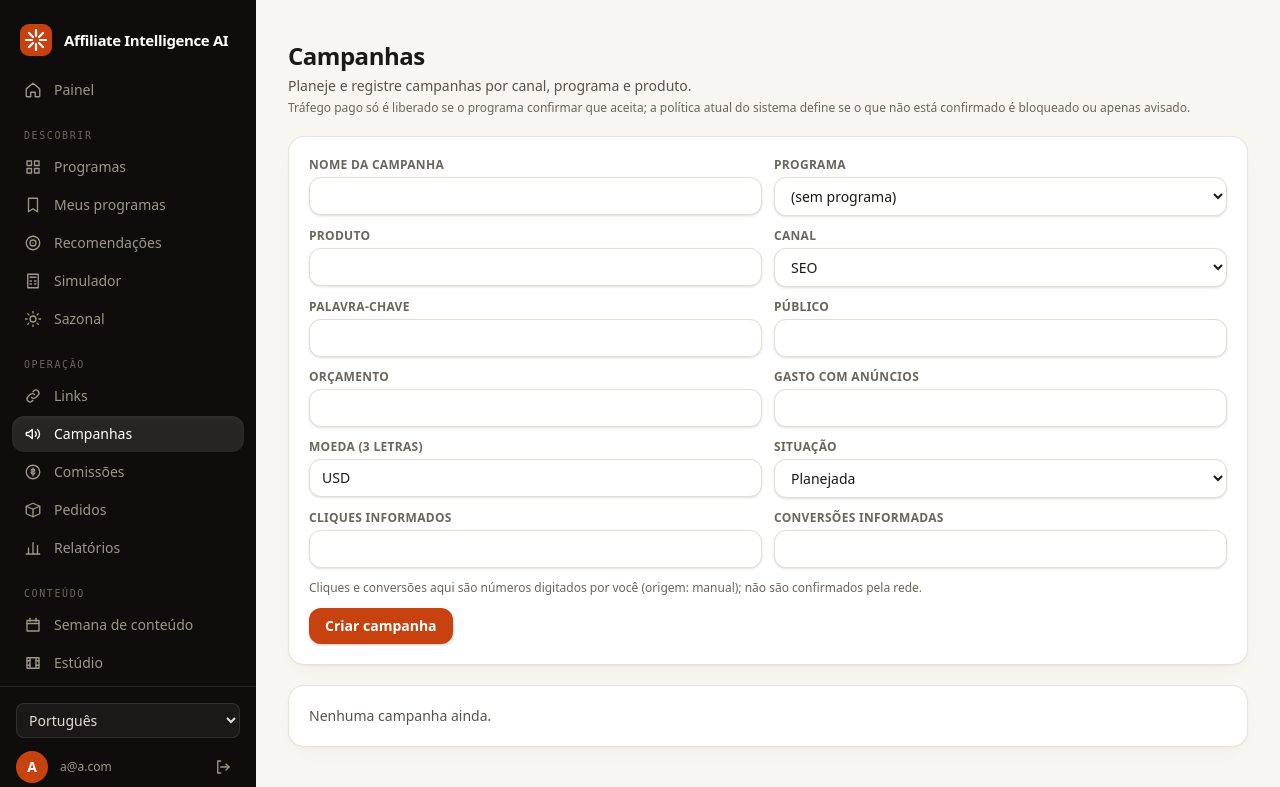
Test: gestão do afiliado › Campanhas: tráfego pago bloqueado mostra o motivo
Type "Camp" into the field labelled "Nome da campanha" at (536,196), box [309,177,762,215]
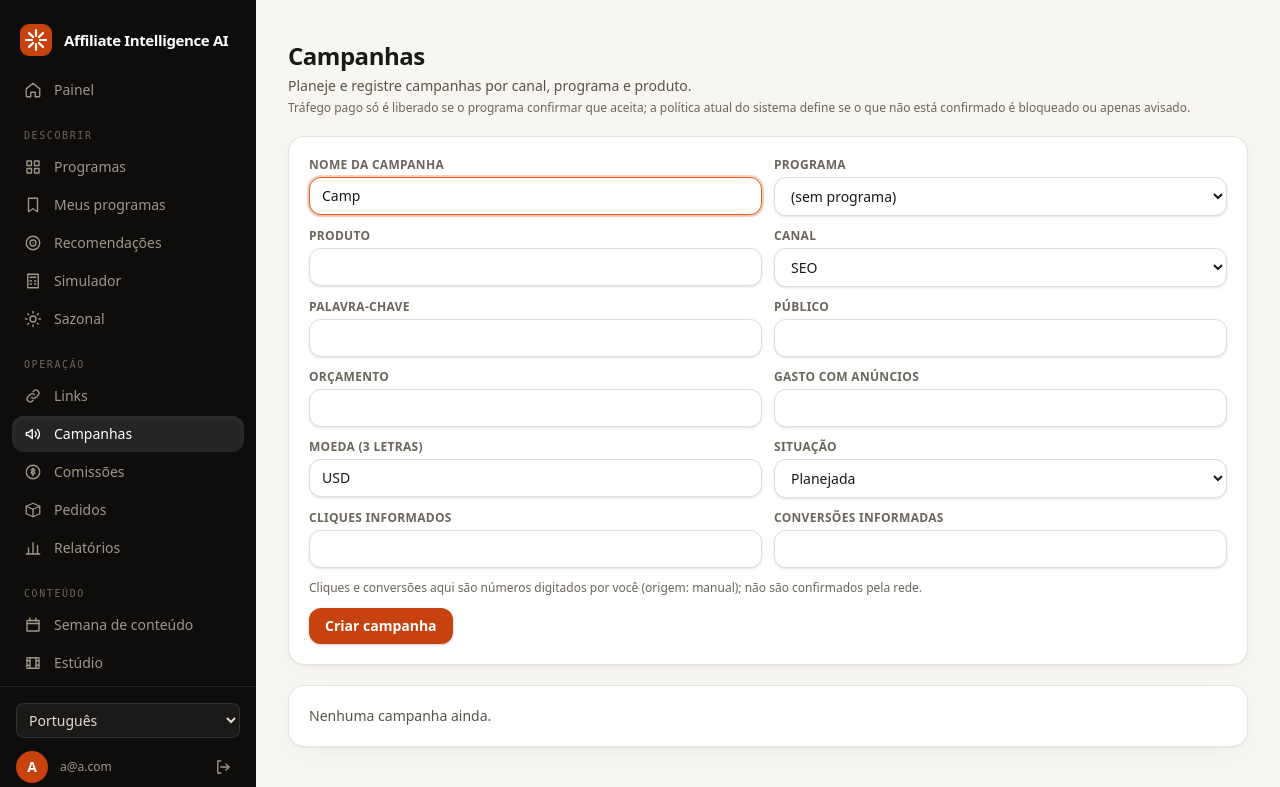
Select "Google Ads" in the dropdown labelled "Canal" at (1000,268), box [774,248,1227,287]
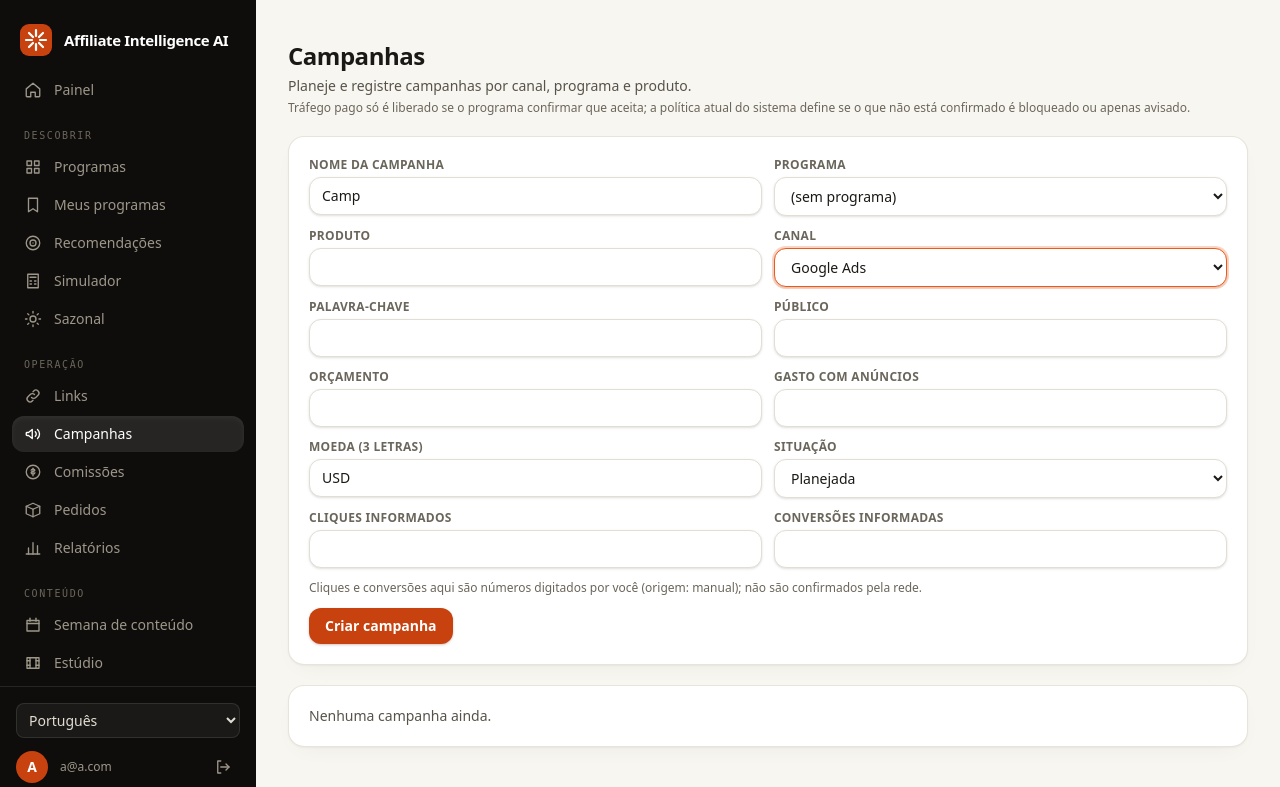
Click the button "Criar campanha" at (381,626), box [309,608,453,644]
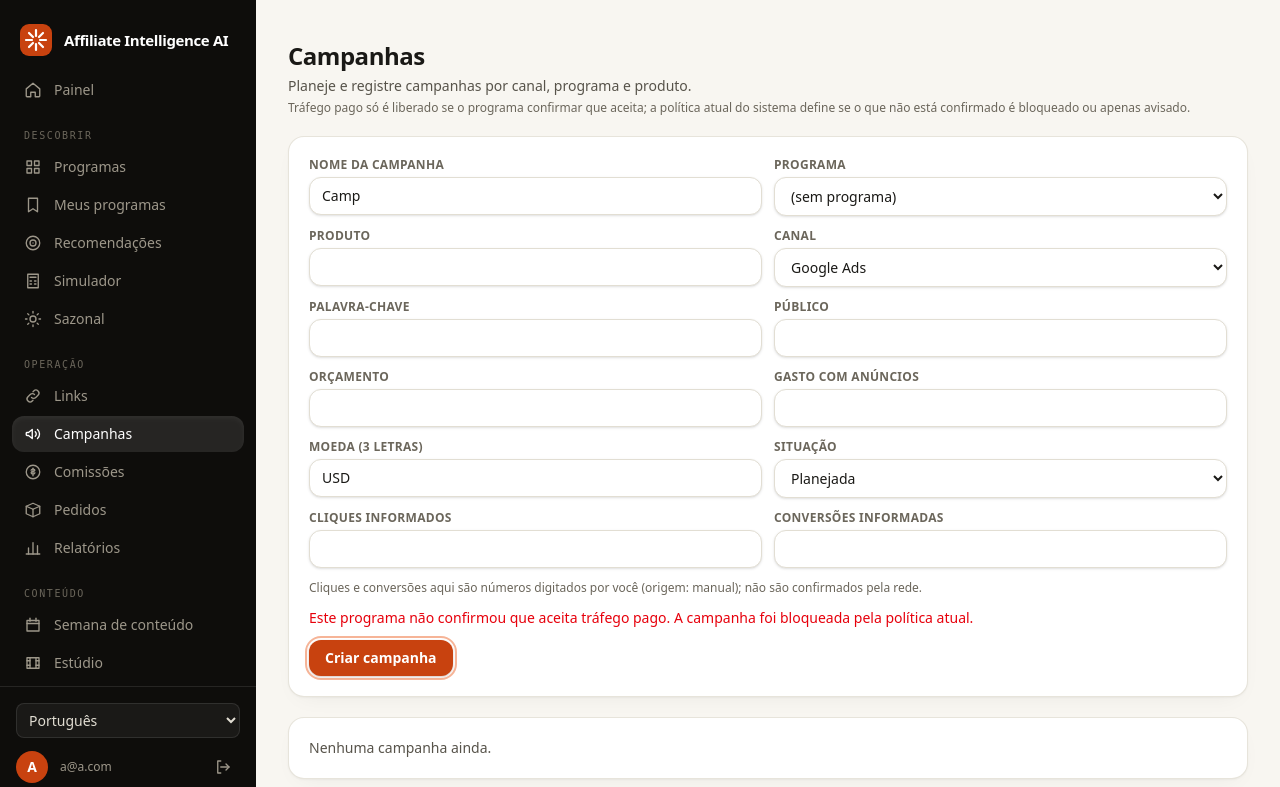
Check: the message shows "não confirmou que aceita tráfego pago", box [309,608,973,627]
